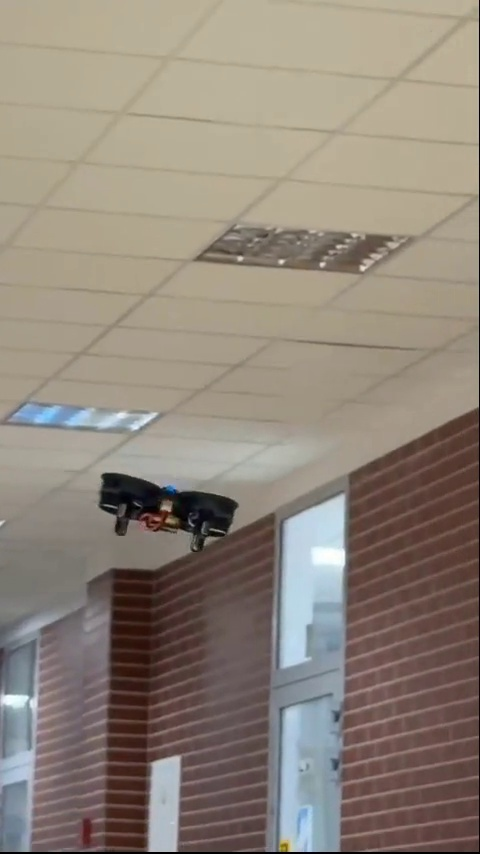drone: (98, 472, 230, 548)
